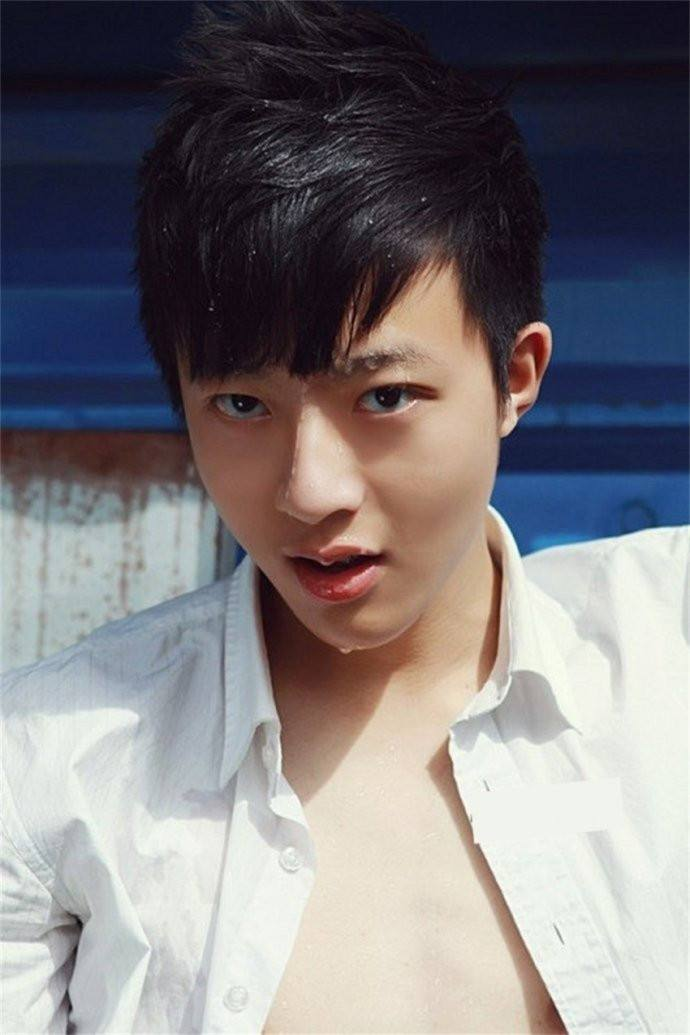person: (148, 56, 620, 927)
